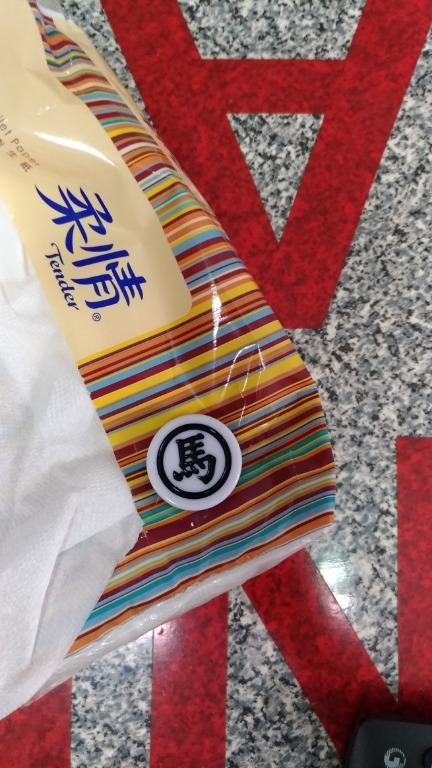b-knight: (118, 404, 270, 521)
